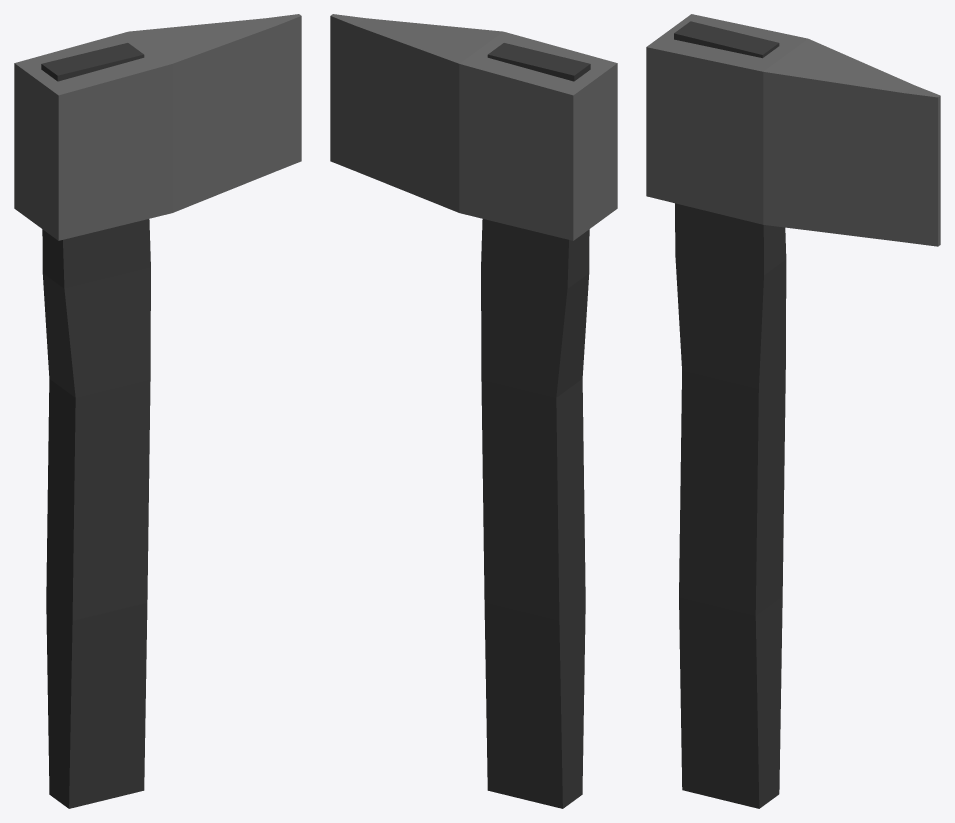
File: Hatchet2.fbx
3 renders of one model, left to right at view 1: azimuth 30°, elevation 25°; view 2: azimuth 150°, elevation 25°; view 3: azimuth 330°, elevation 25°, orthographic. The views are drawn at different scales.
Parts seen in each view (by area): view 1: Hatchet2; view 2: Hatchet2; view 3: Hatchet2.
Part boxes in pixels (x1,y1,x2,y2): Hatchet2: [14, 14, 301, 808]; Hatchet2: [330, 14, 617, 808]; Hatchet2: [646, 14, 940, 808].
Bounding box in the file's own units: 0.1902 × 0.5059 × 0.0551.
